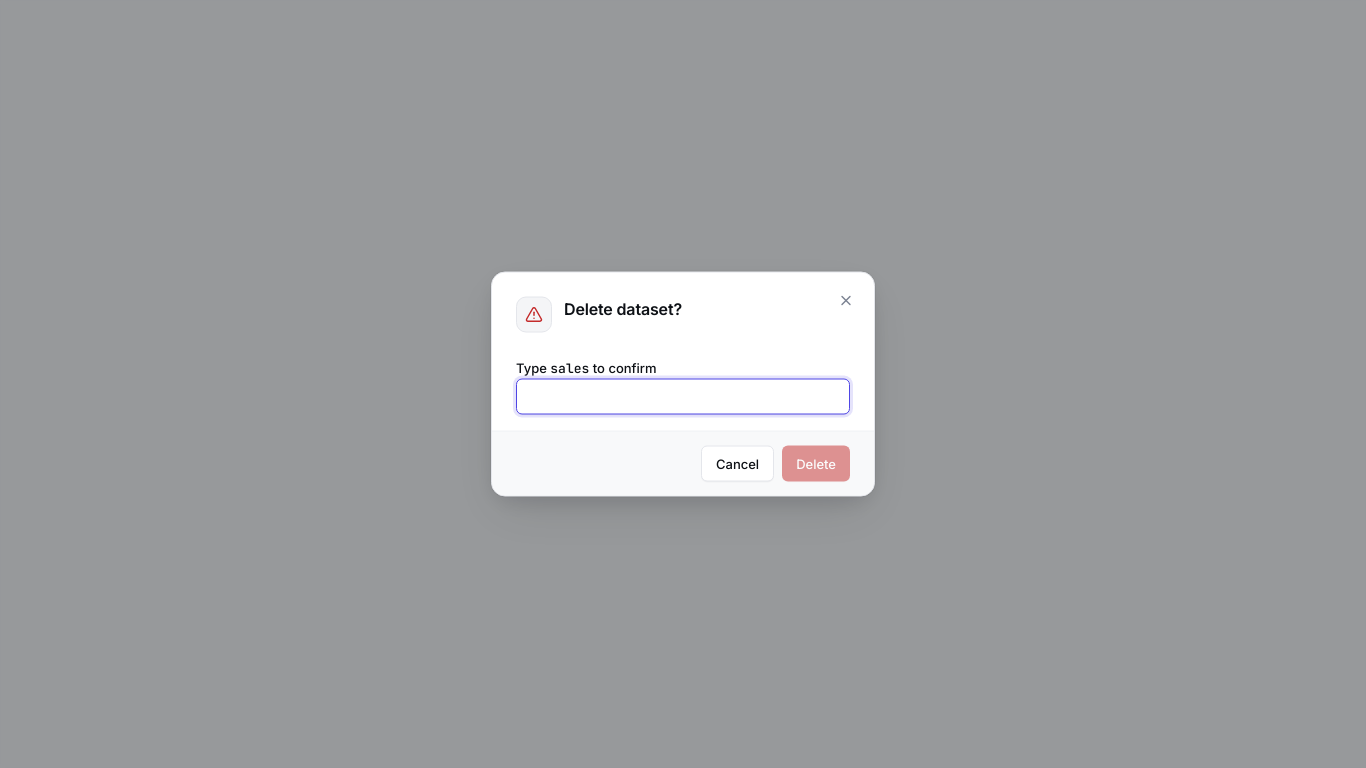
Test: ConfirmDialog › requires typing the confirmation text before confirming
The width and height of the screenshot is (1366, 768).
Later steps or results of the test are not shown.
Expected: the button "Delete" is disabled, top-left (782, 446), bottom-right (850, 482)
In the field: (683, 396) top-left (516, 378), bottom-right (850, 414), type "sales"
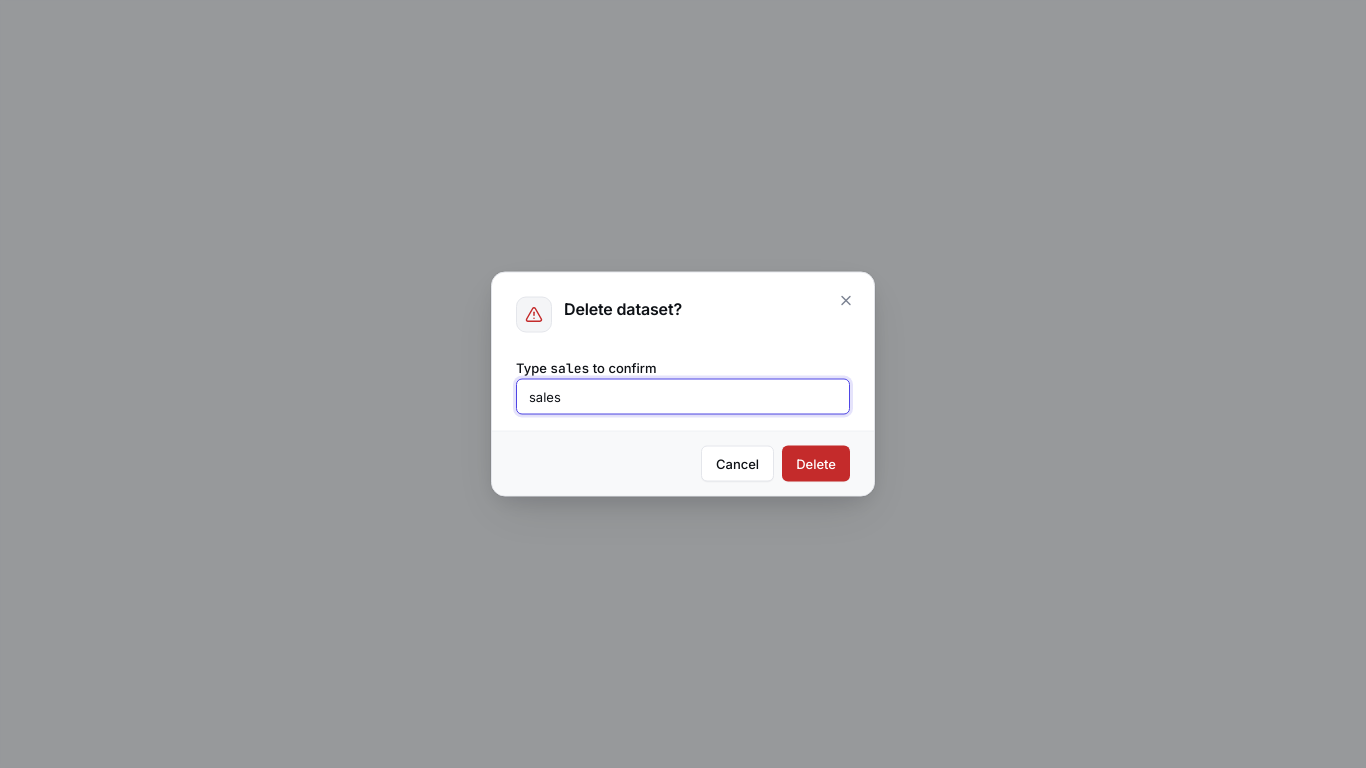
Result: the button "Delete" is enabled at top-left (782, 446), bottom-right (850, 482)
